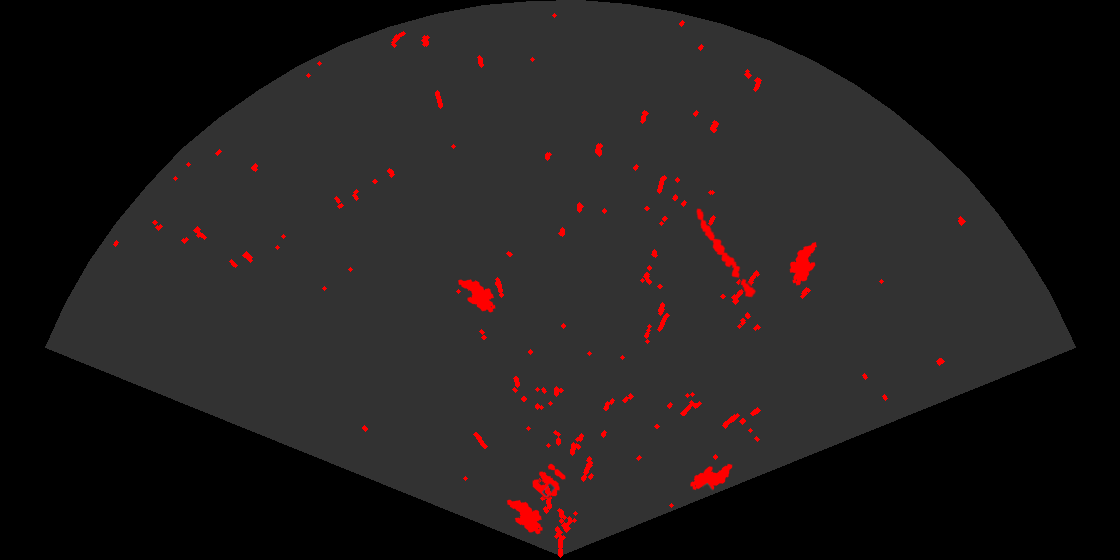AUV: (505, 498, 544, 536), (788, 240, 819, 287), (457, 278, 497, 314), (689, 462, 734, 492)
ball: (531, 462, 567, 499)
chain: (695, 207, 758, 299)
